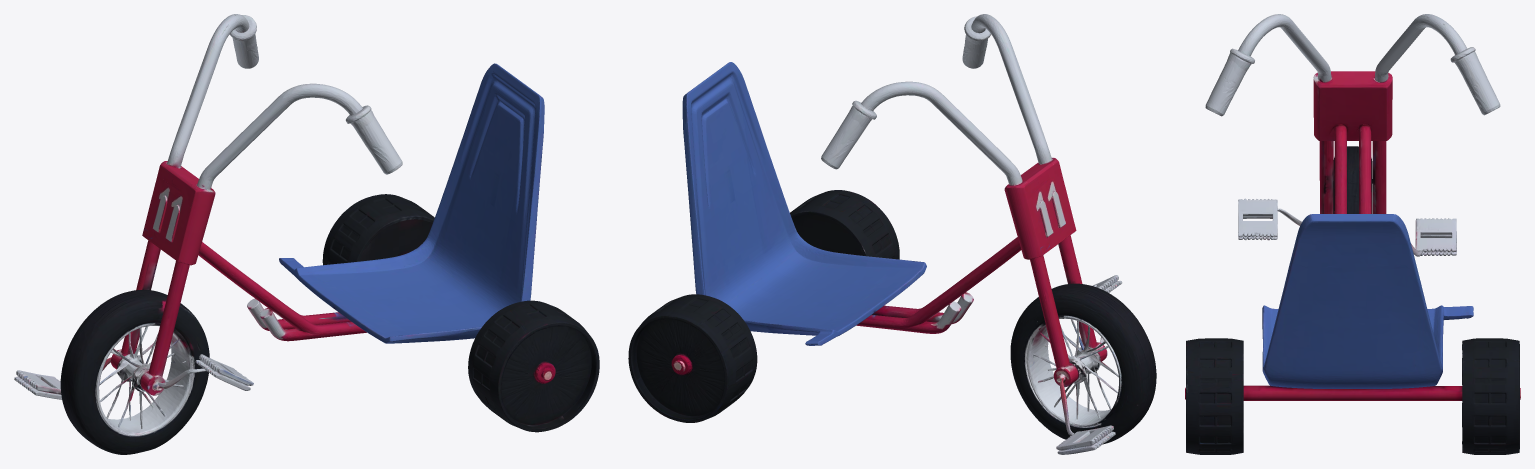
Rendered from tricycle shinning.glb.
3 renders of one model, left to right at view 1: azimuth 30°, elevation 25°; view 2: azimuth 150°, elevation 25°; view 3: azimuth 270°, elevation 25°, orthographic. The views are drawn at different scales.
Visible parts, largest first — view 1: node_0; view 2: node_0; view 3: node_0.
Part boxes in pixels (<box>): node_0: <box>14,14,599,454</box>; node_0: <box>628,14,1156,454</box>; node_0: <box>1185,14,1520,454</box>.
Bounding box in the file's own units: 0.9186 × 0.6958 × 0.6165.
1 material, 1 textured.
